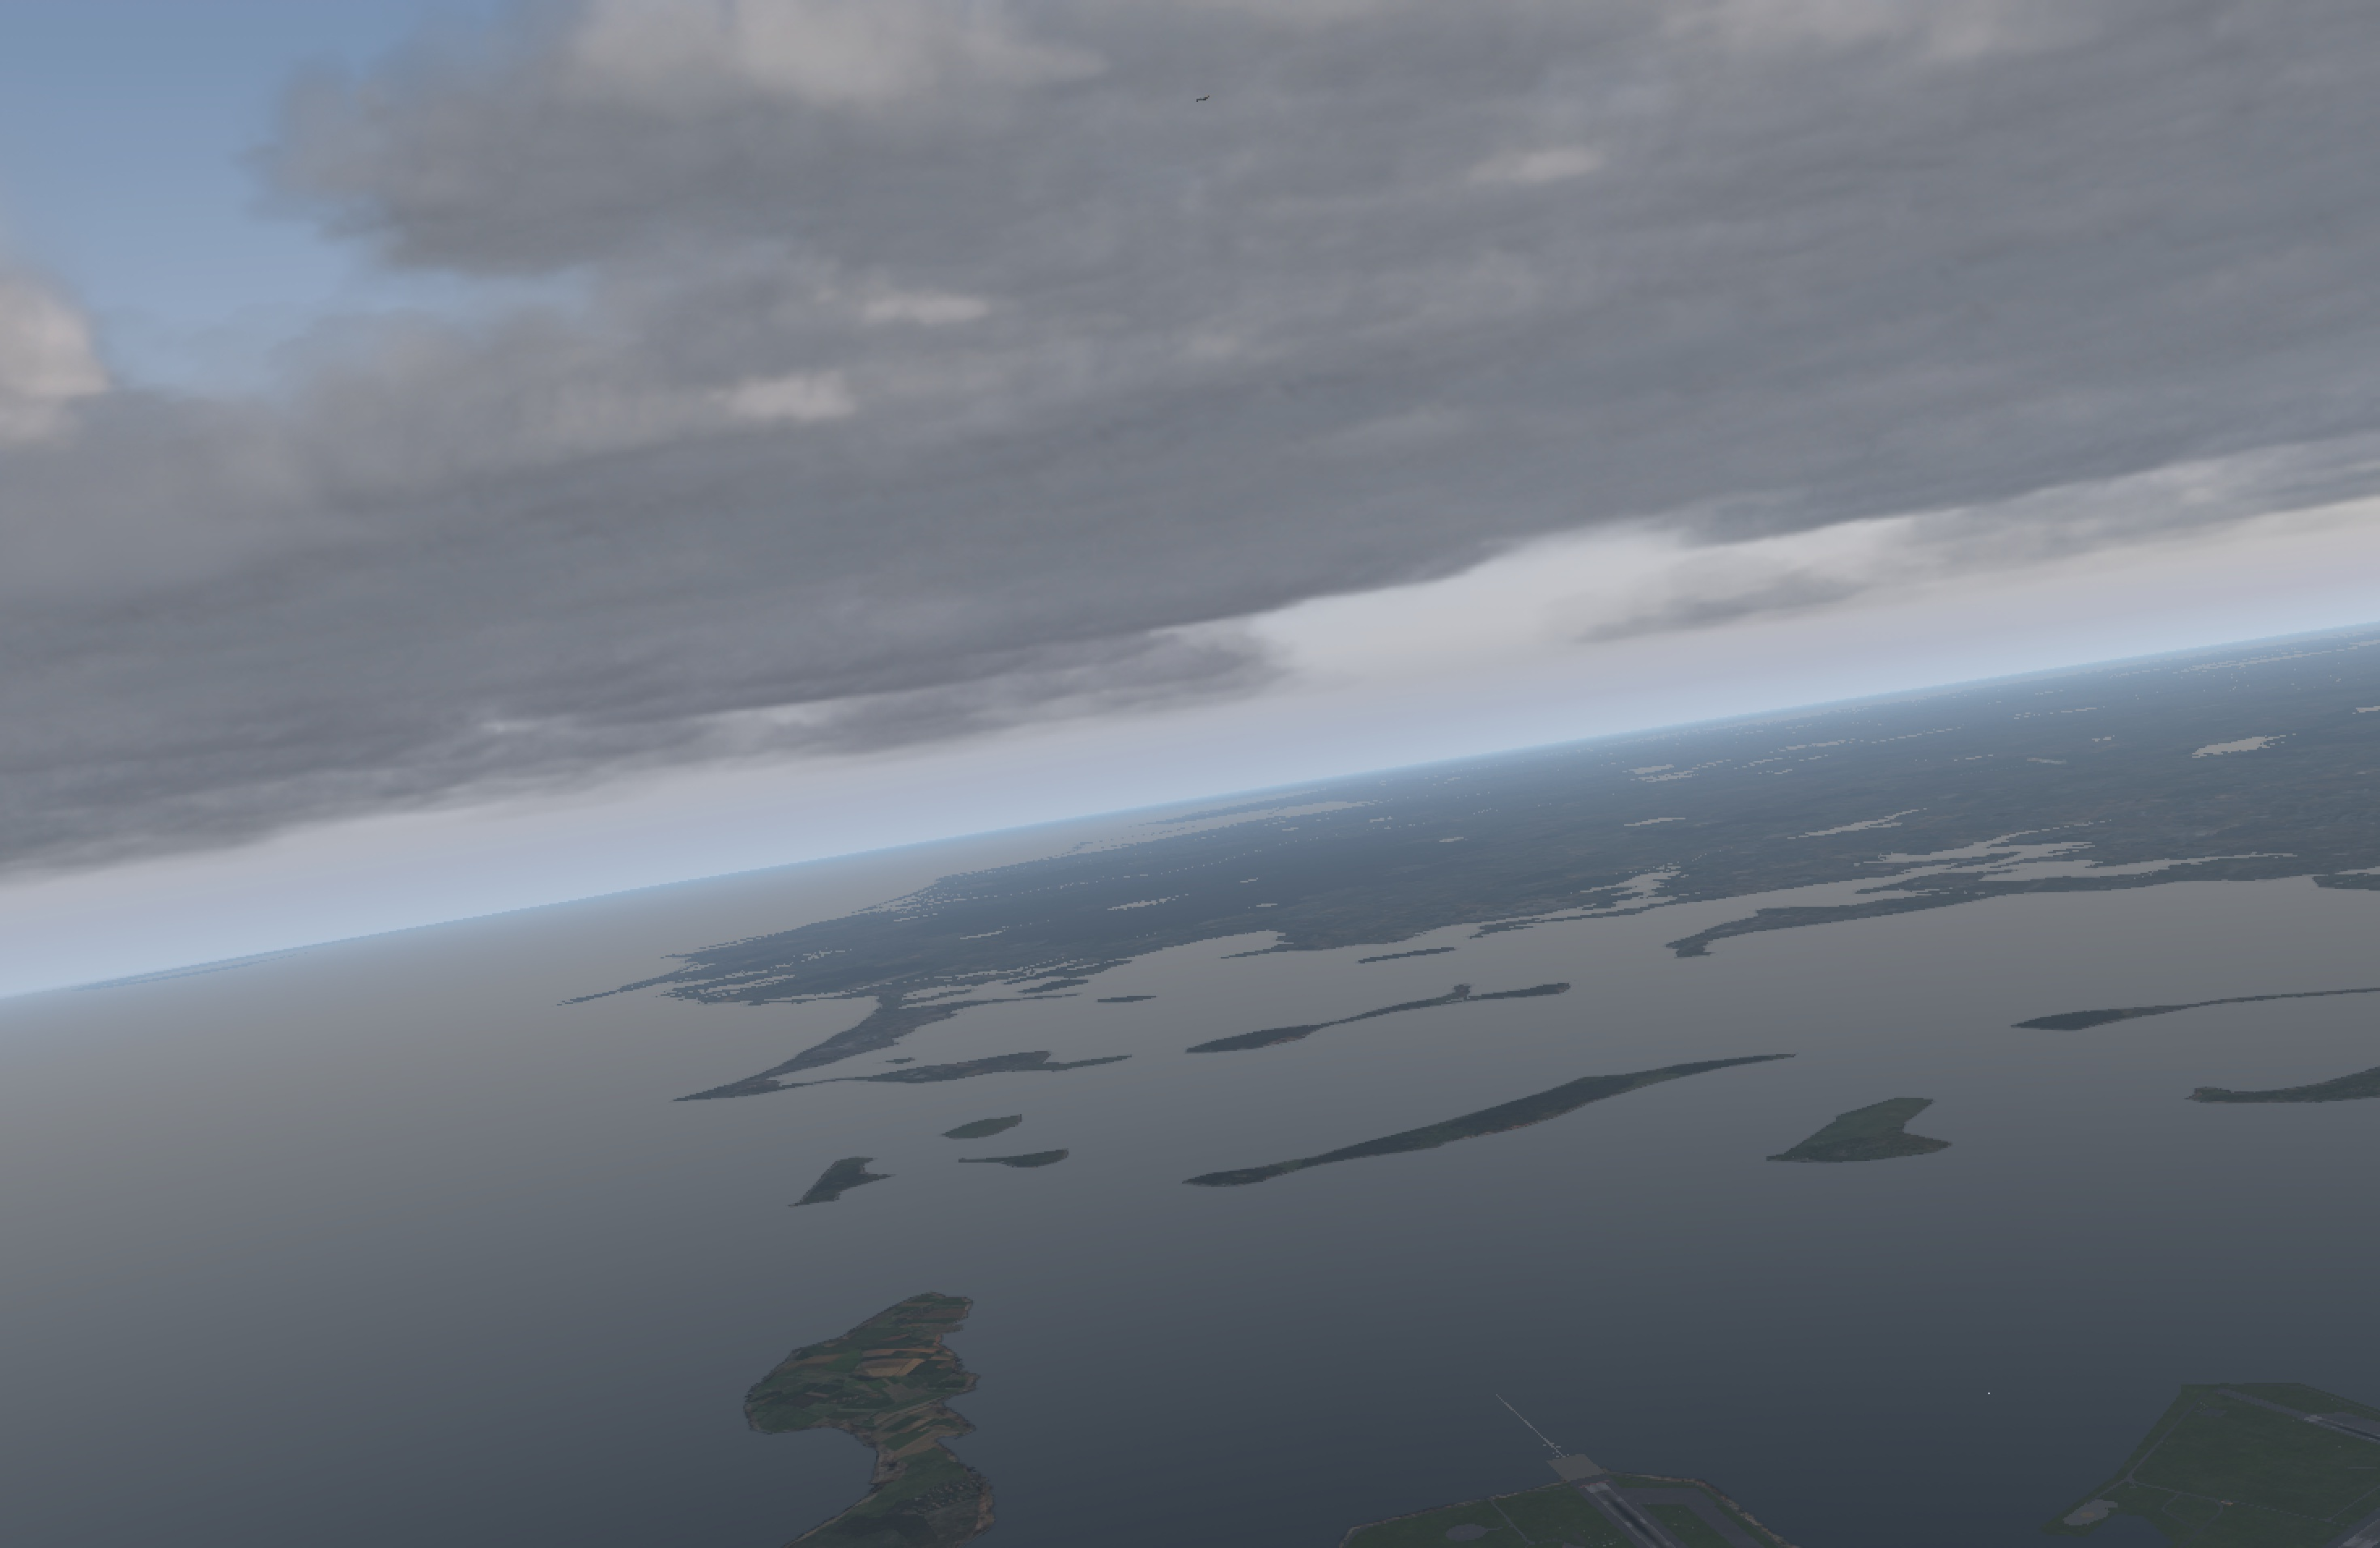aircraft: (1199, 95, 1213, 101)
